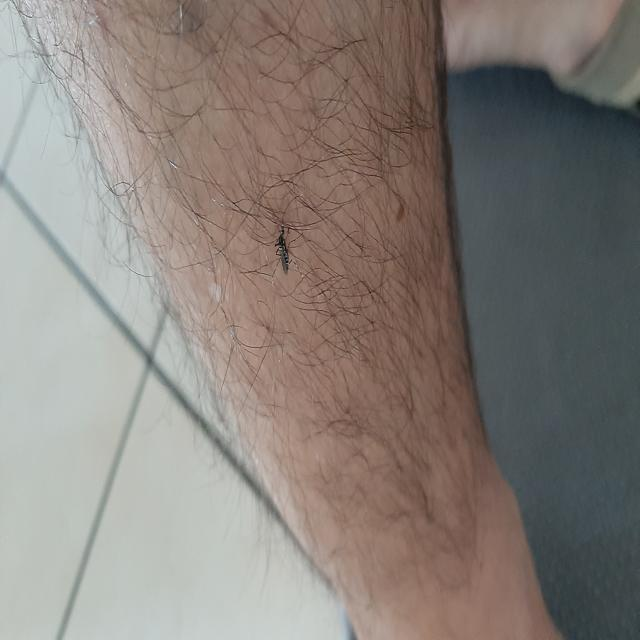albopictus: (242, 186, 310, 292)
